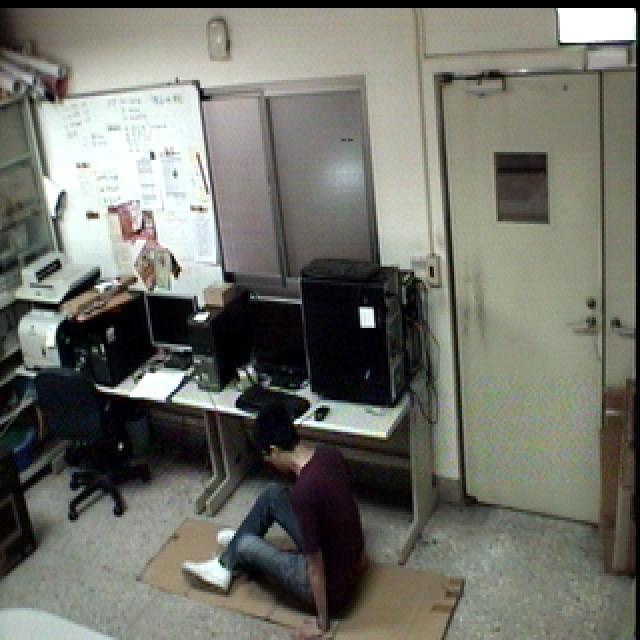sit: (175, 401, 372, 640)
